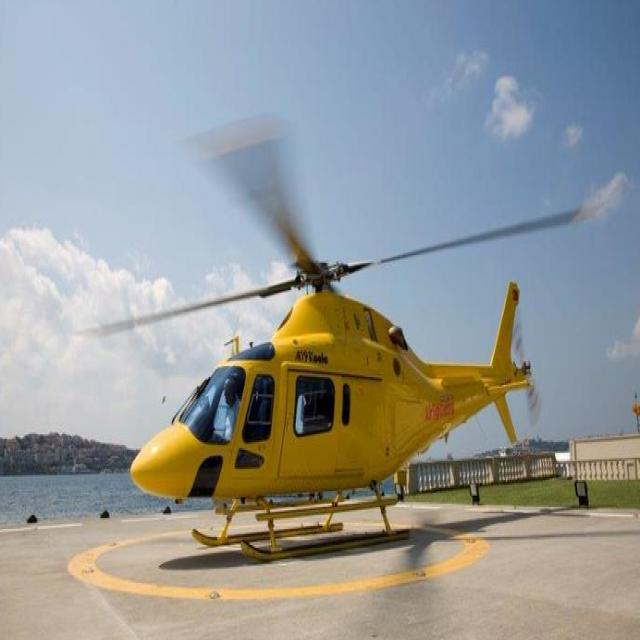helicopter: (72, 103, 602, 572)
